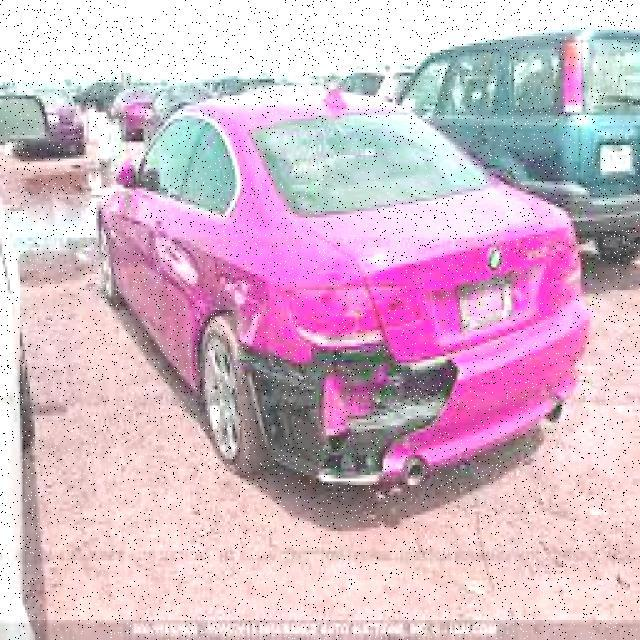car damage: (212, 267, 474, 481)
